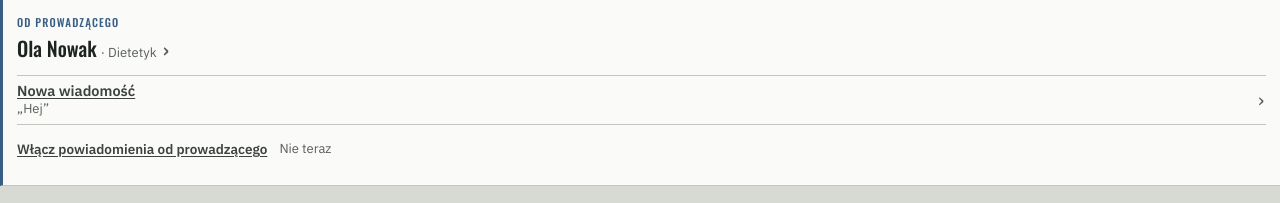
zgoda z dotknięcia › odmowa: bez włączania, z podpowiedzią o ustawieniach strony
The width and height of the screenshot is (1280, 203).
Click the button "Włącz powiadomienia od prowadzącego": x=142, y=149 [17, 127, 267, 171]
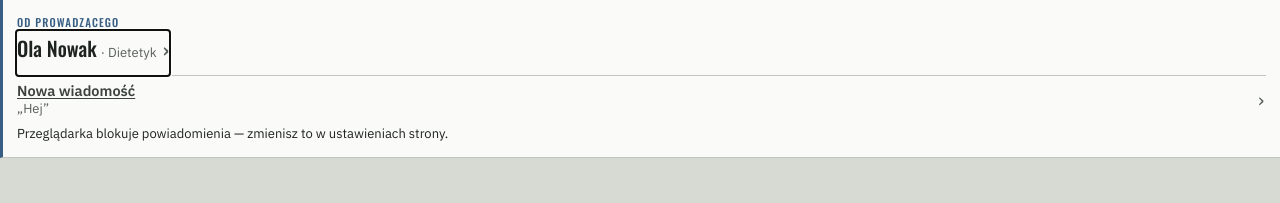
Expected: the text "Przeglądarka blokuje powiadomienia — zmienisz to w ustawieniach strony." is shown, [17, 124, 501, 143]
